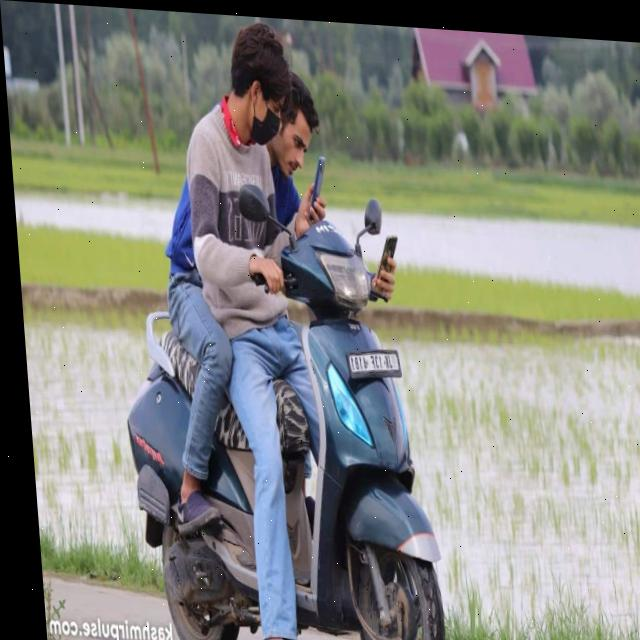without helmet: (220, 12, 323, 191)
